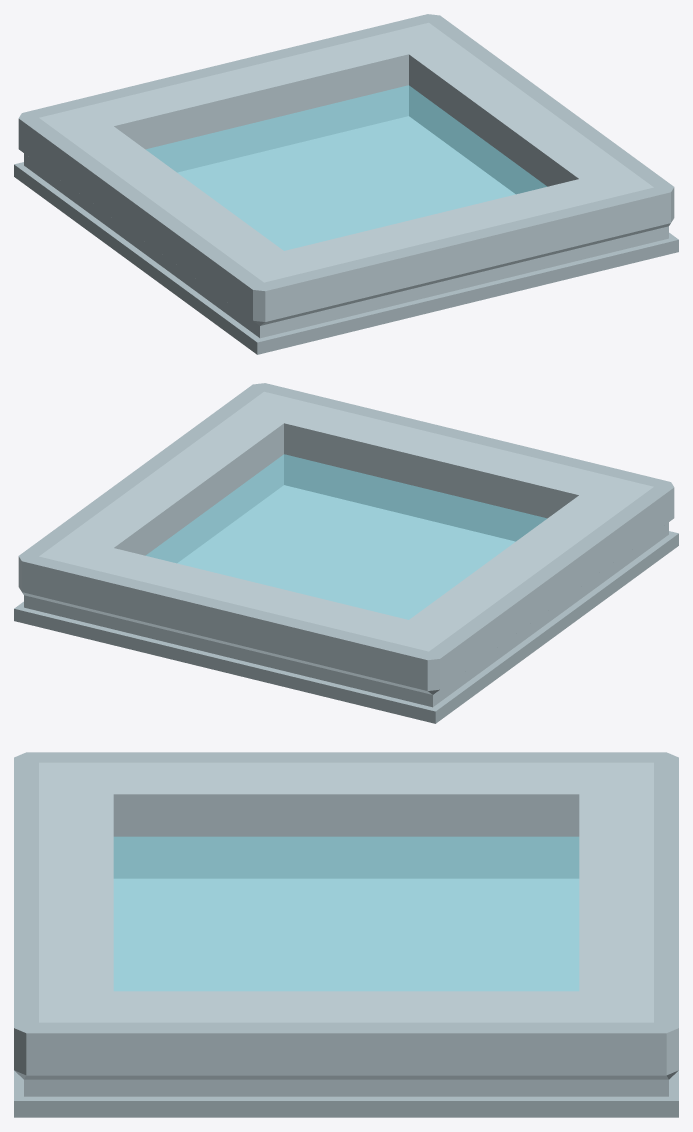
Rendered from fountainSquare.glb.
3 renders of one model, top to bottom at view 1: azimuth 30°, elevation 25°; view 2: azimuth 150°, elevation 25°; view 3: azimuth 270°, elevation 25°, orthographic. The views are drawn at different scales.
Visible parts, largest first — view 1: fountainSquare; view 2: fountainSquare; view 3: fountainSquare.
Part boxes in pixels (bbox=[...]): fountainSquare: bbox=[14, 14, 678, 354]; fountainSquare: bbox=[14, 383, 678, 723]; fountainSquare: bbox=[14, 752, 678, 1117].
Bounding box in the file's own units: 2 × 0.28 × 2.
